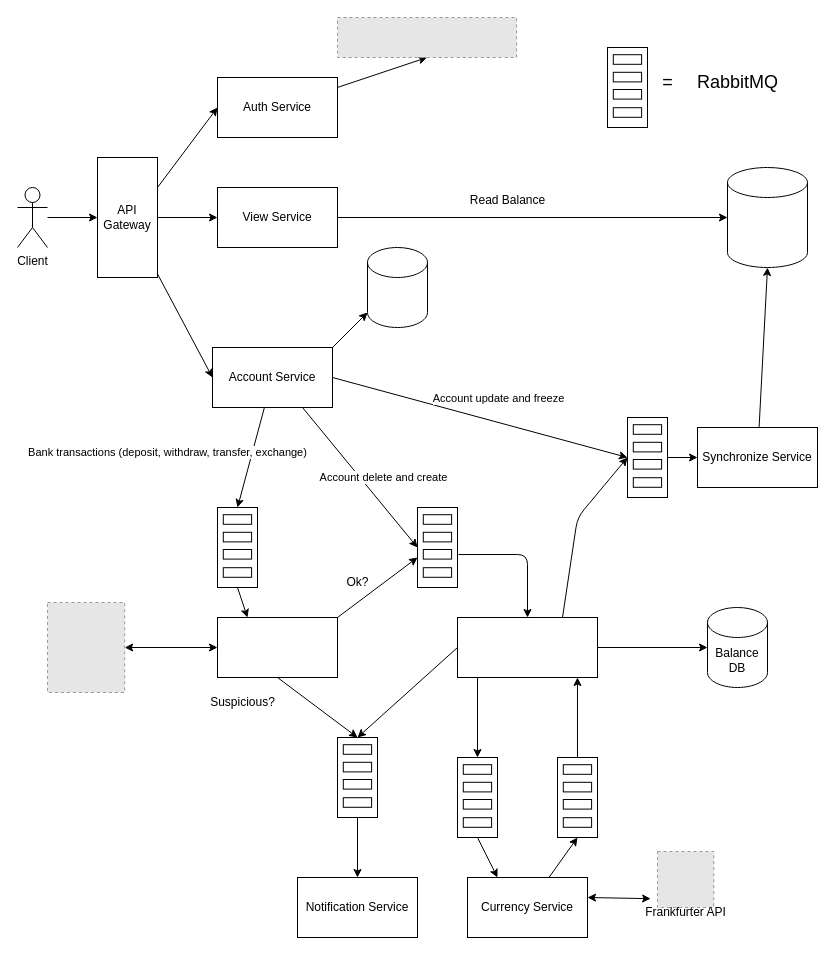
Some shapes in this 835 by 955 pixel diagram are drawn without their labels. Grey dashed boxes stand in for pictures. The centre of each missing label's shape, as x and y in pixels:
Account DB: point (397, 287)
Fraud Service (AI): point (277, 647)
Read Only DB (Document): point (767, 217)
Transaction Service: point (527, 647)
